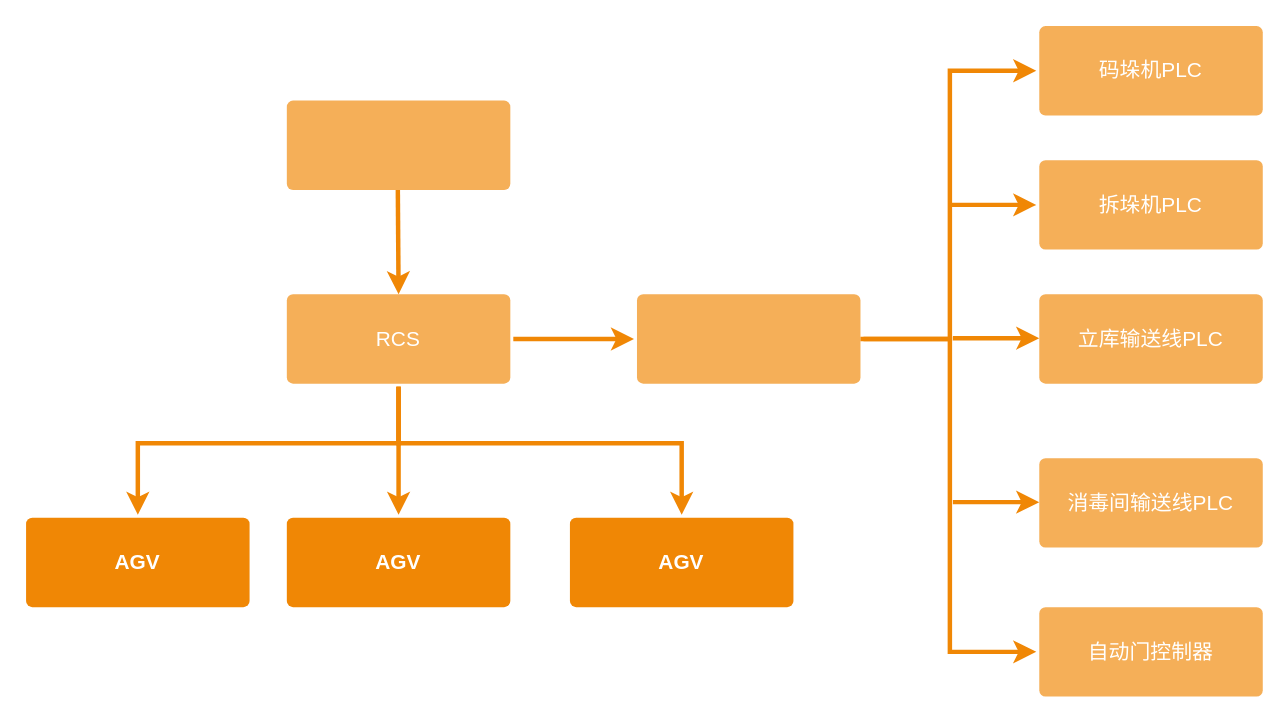
The diagram is 1287 pixels wide and 721 high, and some of its shapes have lost their labels. The centre of each missing label's shape, as x and y in pixels:
WCS: the point at 748,338
楚天WMS: the point at 398,144
